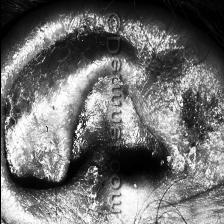Non-Cancerous Skin Condition: (125, 17, 223, 224), (0, 0, 96, 102), (9, 136, 105, 224)
